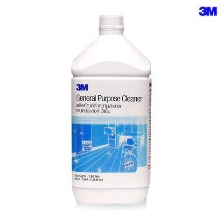cleaning_solution: (68, 11, 154, 207)
